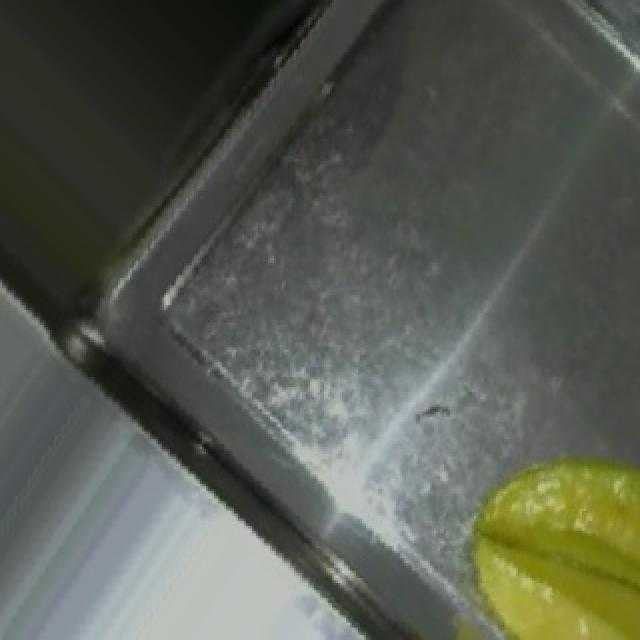fruit: (0, 305, 186, 635), (424, 399, 640, 640)
